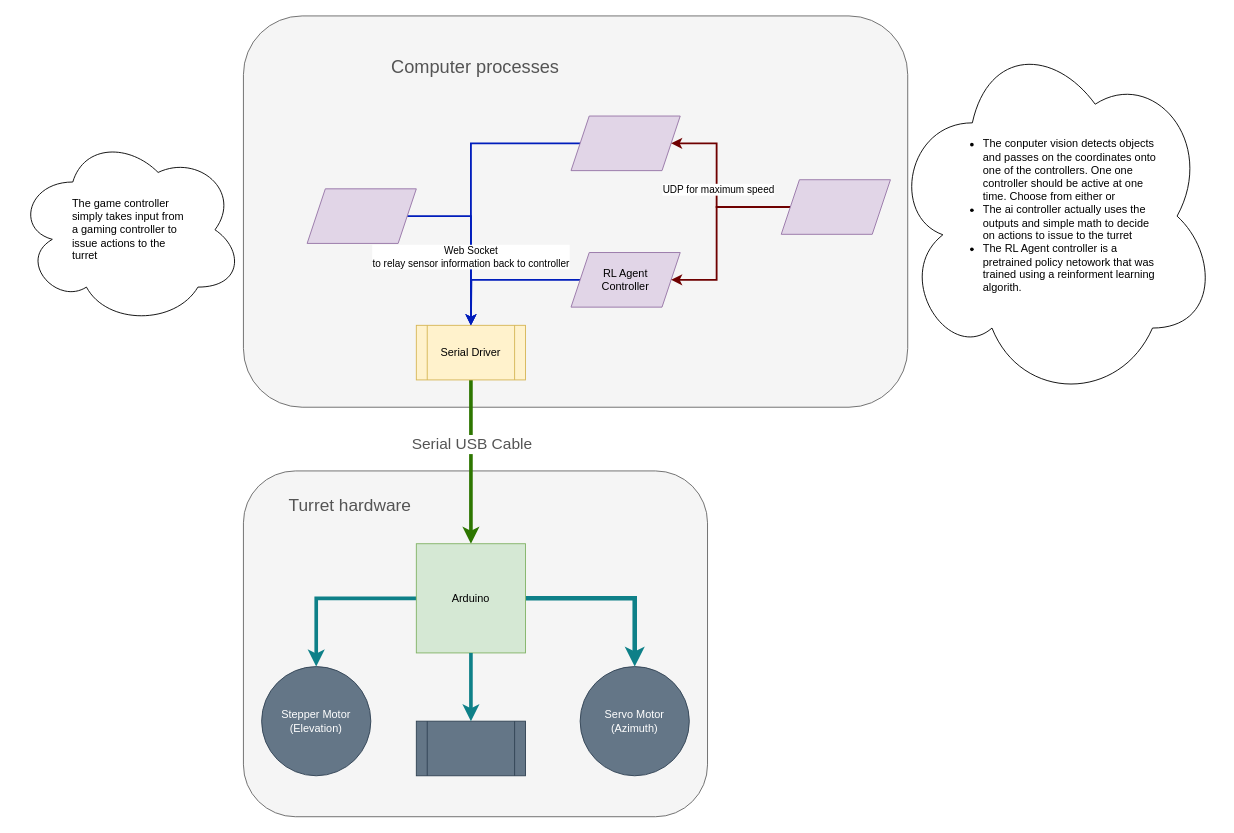
Image size: 1234x833. Some labels were removed from this diagram. The box of each missing label's shape, as (x1, y1, x2, y2) in pixels:
AI controller: (570, 115, 680, 171)
Camera Vision: (780, 179, 890, 234)
Game Controller: (306, 188, 416, 243)
Shoot relay: (415, 720, 526, 776)
